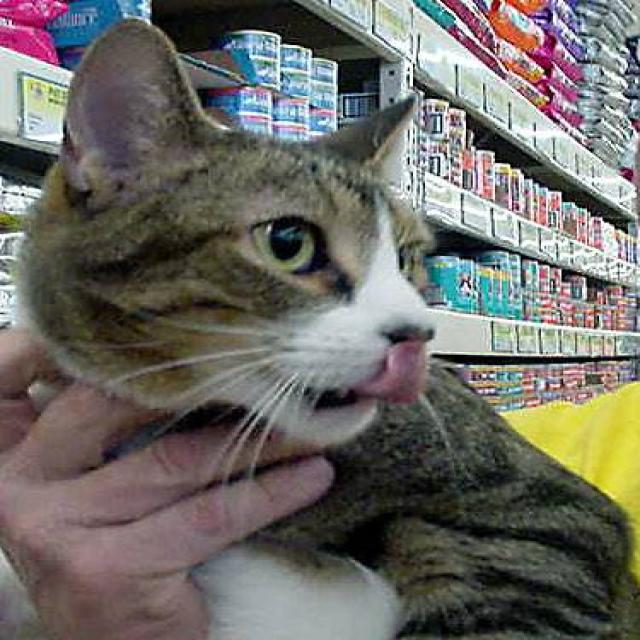cat: (5, 16, 638, 639)
